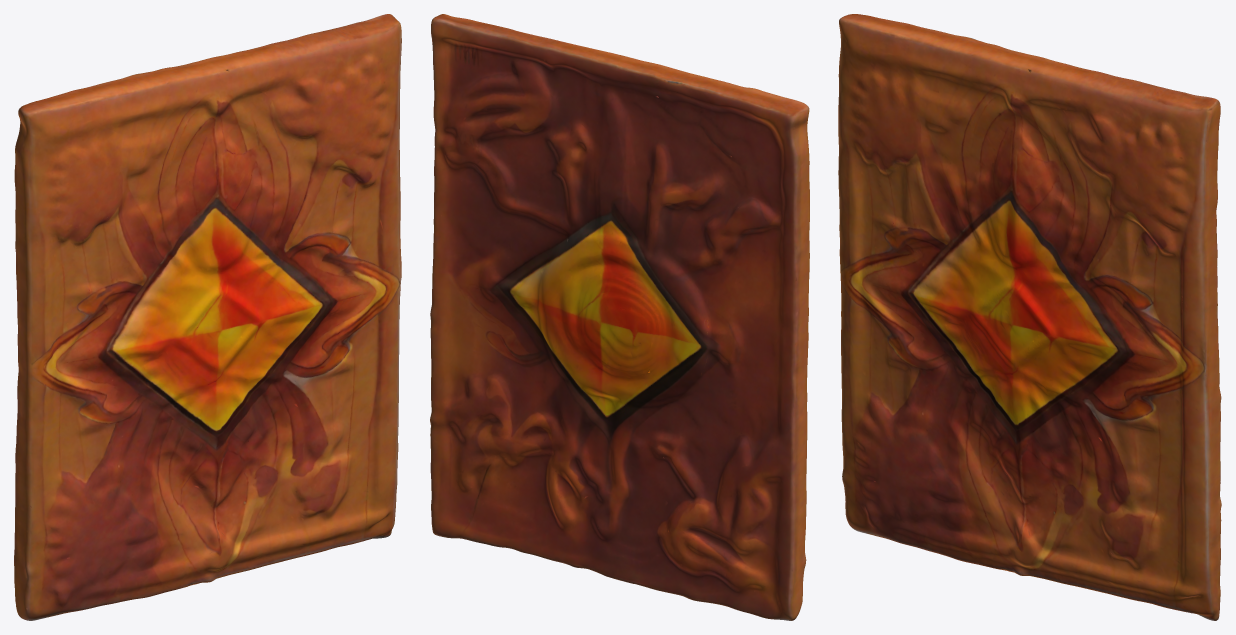
The model's file is Autumn_Gem_Card_Back_0205231243_texture.glb.
3 views of the same model, side by side, from view 1: azimuth 30°, elevation 25°; view 2: azimuth 150°, elevation 25°; view 3: azimuth 330°, elevation 25° (orthographic).
Bounding box in the file's own units: 1.51 × 2 × 0.187.
1 material, 1 textured.
